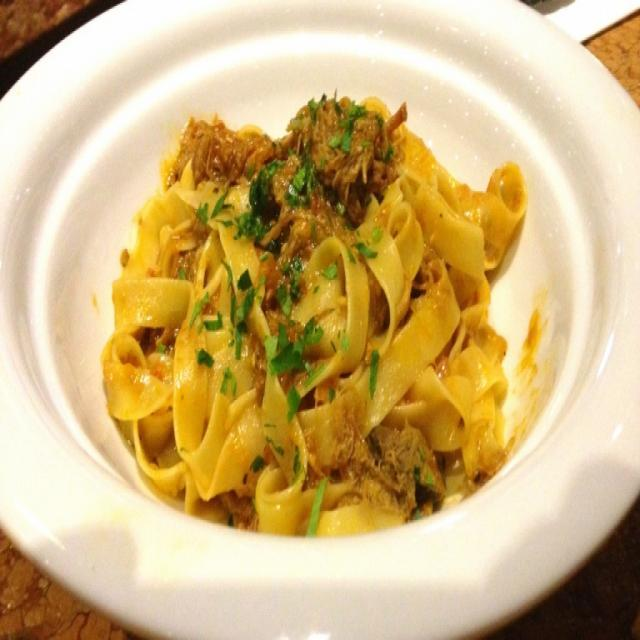Pasta al ragu: (118, 55, 570, 559)
